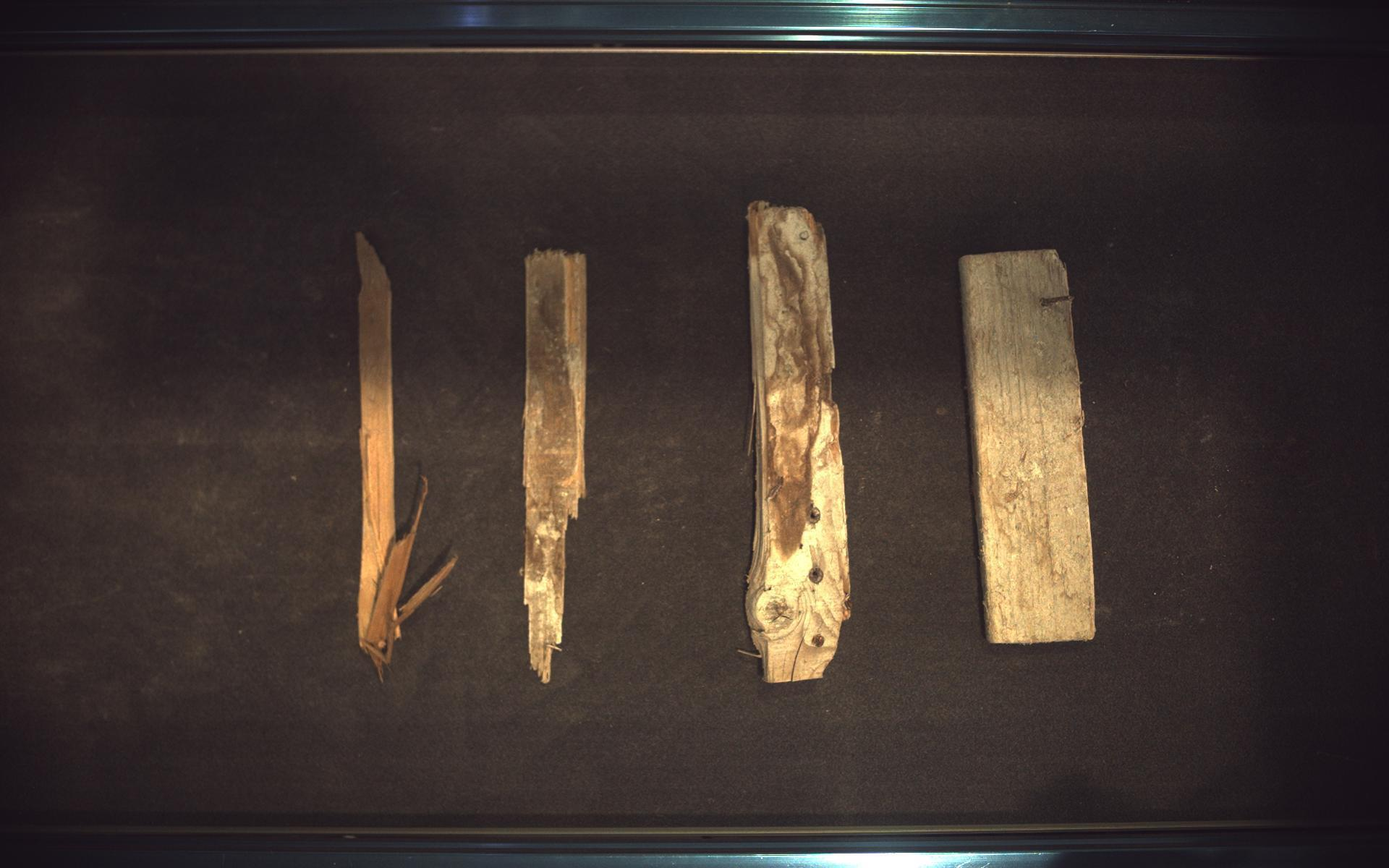wood: (356, 232, 457, 681)
